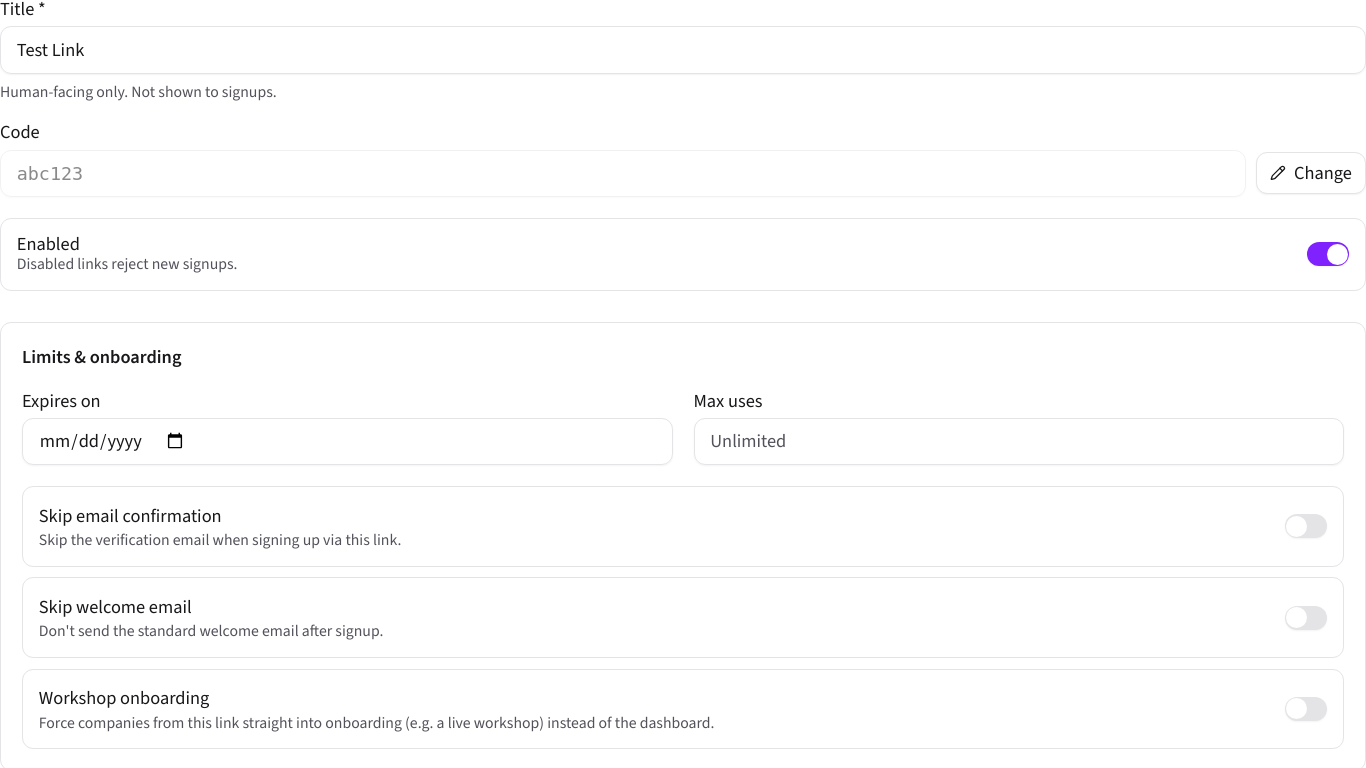
SignupLinkForm — edit › clicking Change opens the confirmation dialog without unlocking immediately
This screenshot has width=1366, height=768.
Click the button "Change".
click(1311, 173)  # box x1=1256 y1=152 x2=1365 y2=194
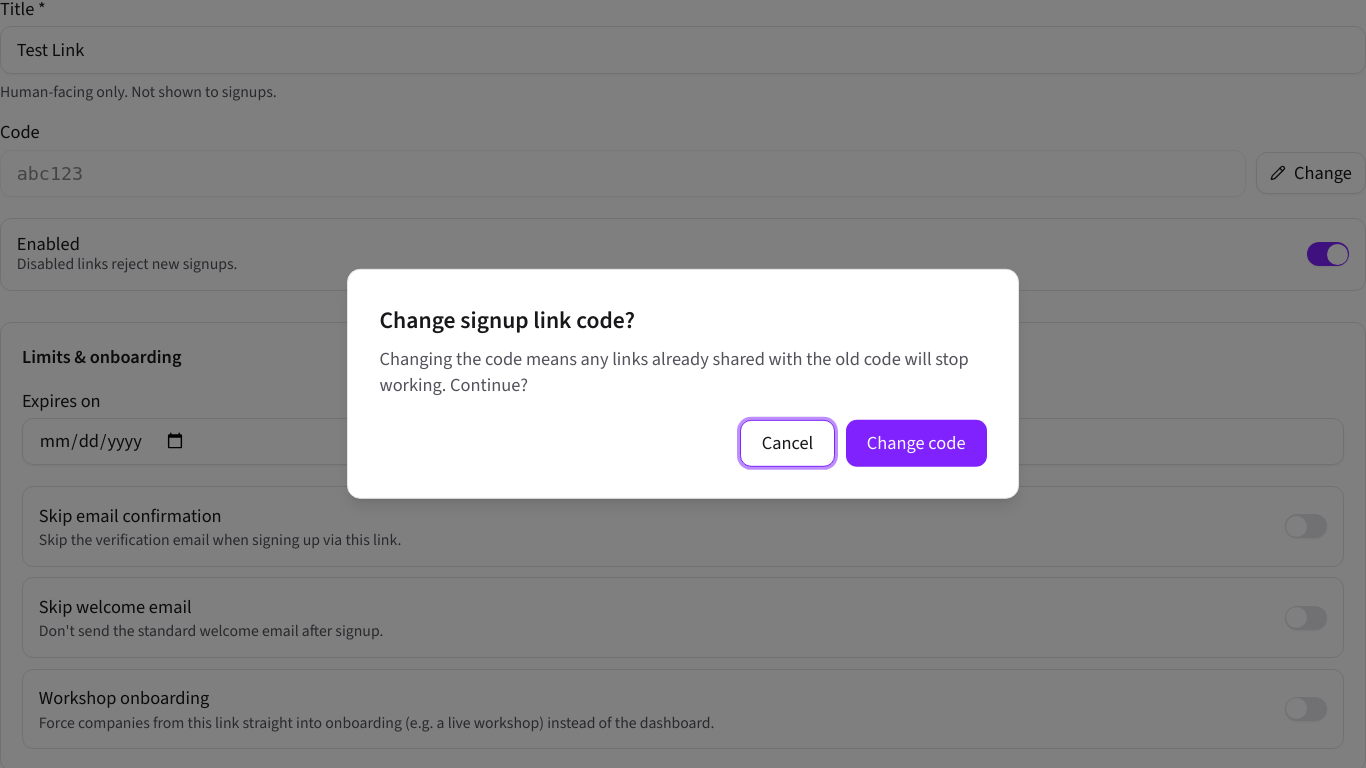
expect the field labelled "Code" is disabled: met, box x1=0 y1=150 x2=1246 y2=197
expect the text "Changing the code means" is shown: met, box x1=380 y1=347 x2=969 y2=397
